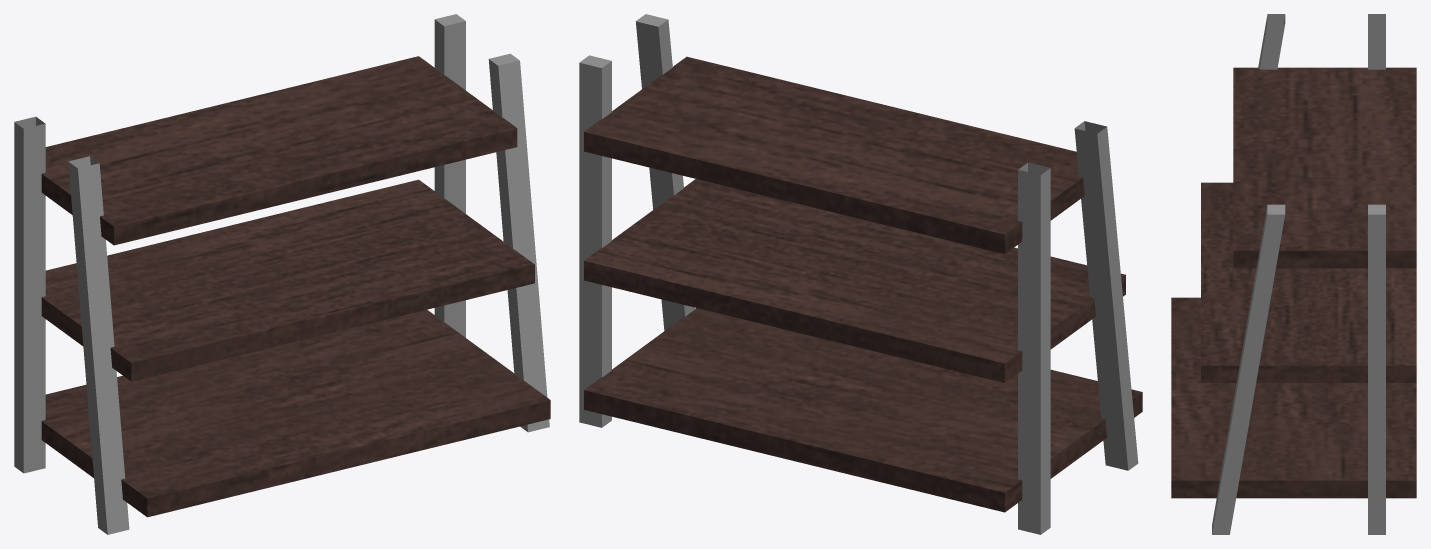
Rendered from shelf.fbx.
3 views of the same model, side by side, from view 1: azimuth 30°, elevation 25°; view 2: azimuth 150°, elevation 25°; view 3: azimuth 270°, elevation 25° (orthographic). The views are drawn at different scales.
Parts seen in each view (by area): view 1: shelf; view 2: shelf; view 3: shelf.
Boxes of the visible parts, <box> form: shelf: <box>14,14,550,534</box>; shelf: <box>579,14,1142,534</box>; shelf: <box>1171,14,1416,534</box>.
Bounding box in the file's own units: 166 × 124 × 85.83.
